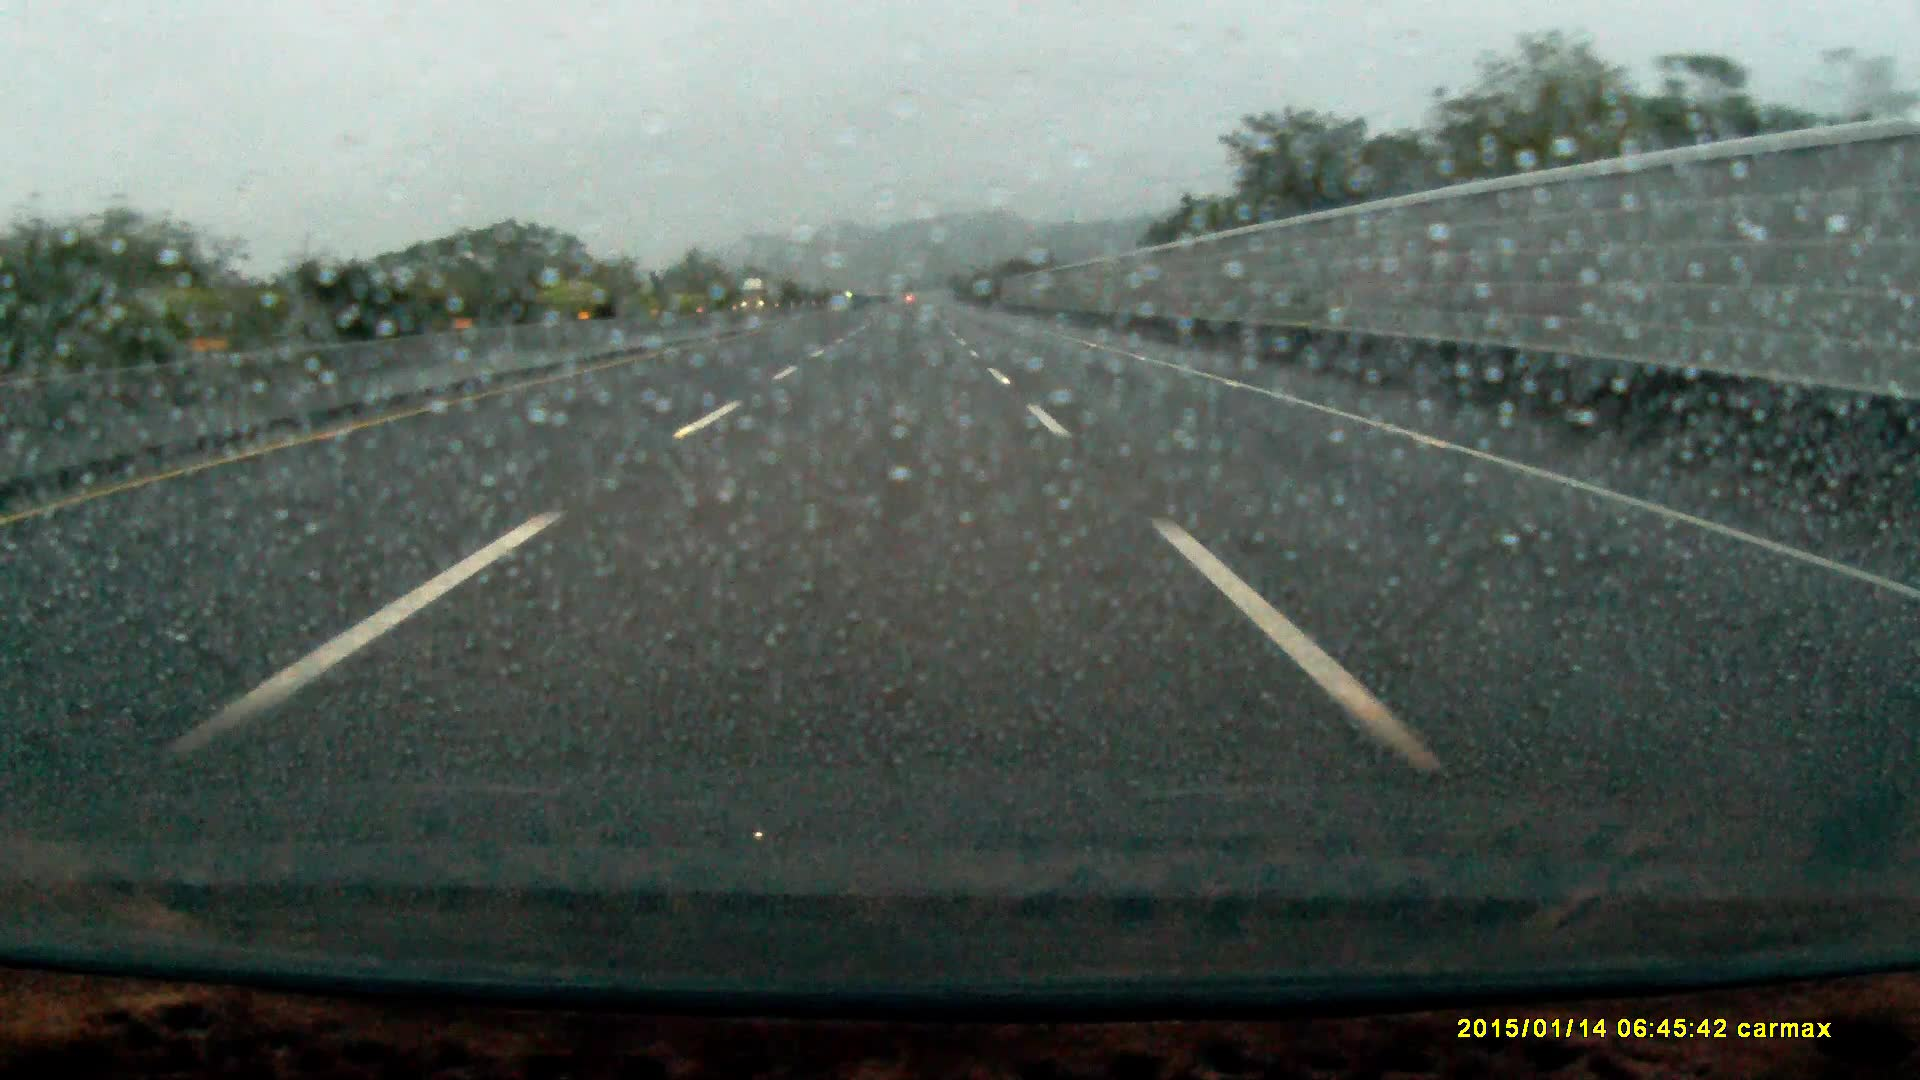vehicle: (741, 278, 774, 310)
